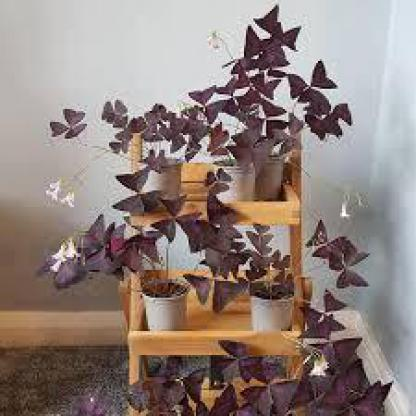Kupu-Kupu: (244, 9, 303, 73), (312, 230, 375, 282), (106, 167, 164, 212), (299, 312, 349, 362), (208, 340, 269, 379), (101, 101, 156, 143), (292, 64, 338, 108), (51, 104, 88, 138)
